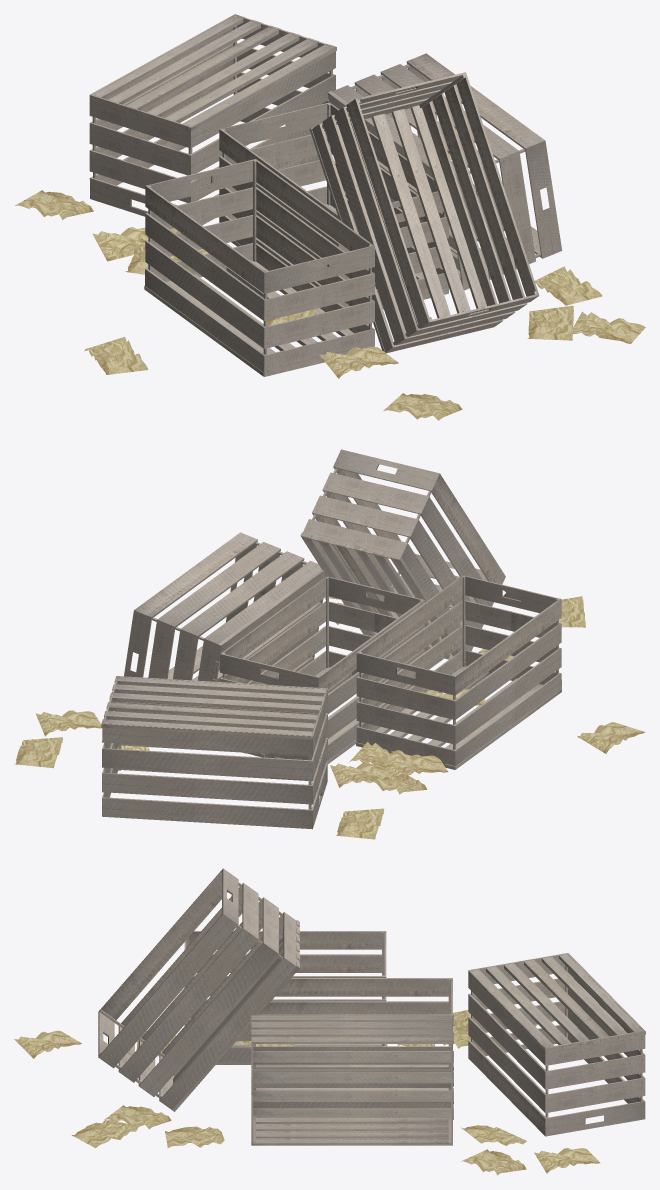
Rendered from Crates.obj.
3 views of the same model, one above another, from view 1: azimuth 30°, elevation 25°; view 2: azimuth 150°, elevation 25°; view 3: azimuth 270°, elevation 25° (orthographic). The views are drawn at different scales.
Parts seen in each view (by area): view 1: Crate, Paper, pPlane15; view 2: Crate, Paper; view 3: Crate, Paper, pPlane17, pPlane15.
Part boxes in pixels (x1=…): Crate: x1=89, y1=14, x2=562, y2=376; Paper: x1=15, y1=128, x2=645, y2=420; pPlane15: x1=572, y1=311, x2=645, y2=343; Crate: x1=101, y1=449, x2=561, y2=829; Paper: x1=14, y1=596, x2=645, y2=839; Crate: x1=98, y1=868, x2=645, y2=1145; Paper: x1=14, y1=1007, x2=600, y2=1175; pPlane17: x1=165, y1=1126, x2=224, y2=1147; pPlane15: x1=71, y1=1119, x2=137, y2=1148.
Size of the model in its own units: 14.04 by 5.99 by 17.16.
